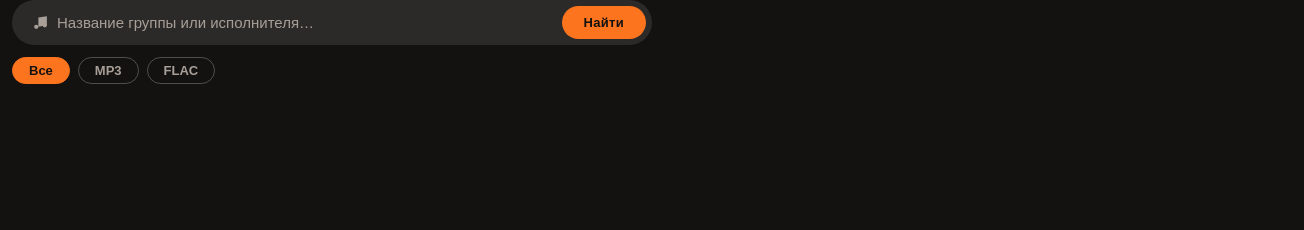
SearchBar — history dropdown + outside click + keyboard › click on input also opens the dropdown when history present
Click the field with class "search-input": (305, 22) [57,8,554,37]
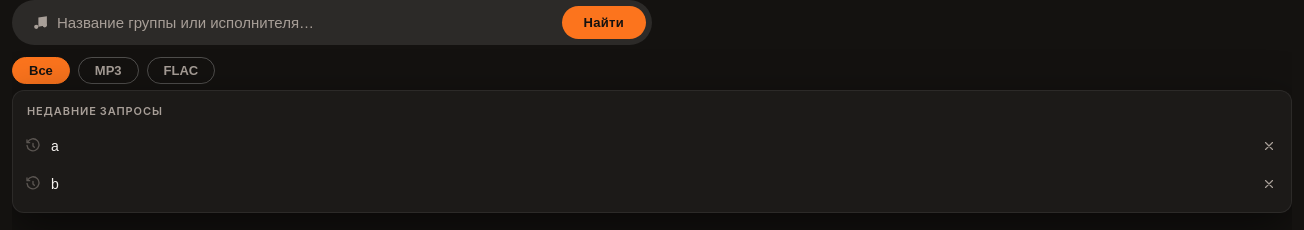
Expected: the list with class "search-history-dropdown" is shown, [12,90,1292,212]
